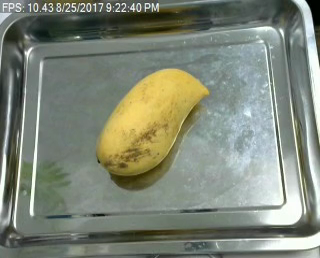Mango: (92, 68, 209, 179)
